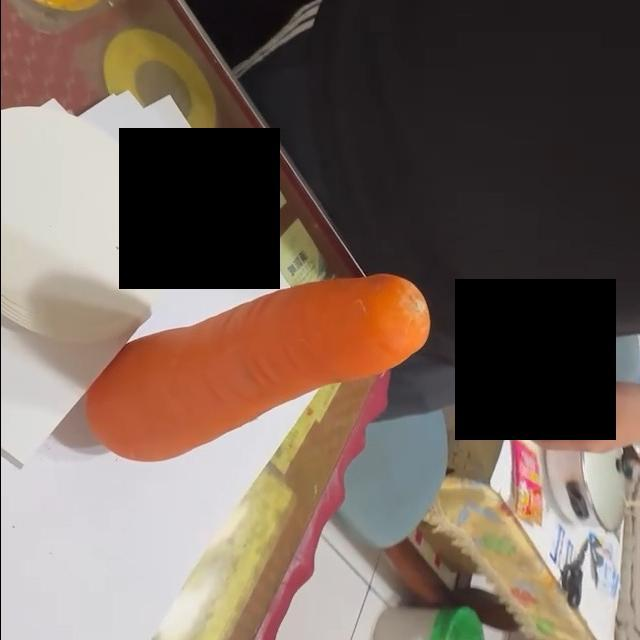carrot: (92, 276, 432, 460)
